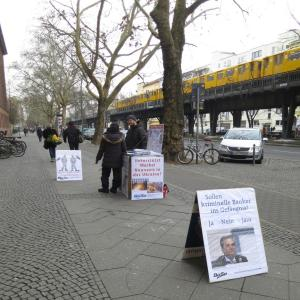Vehicle-registration-plate: (232, 152, 248, 156)
